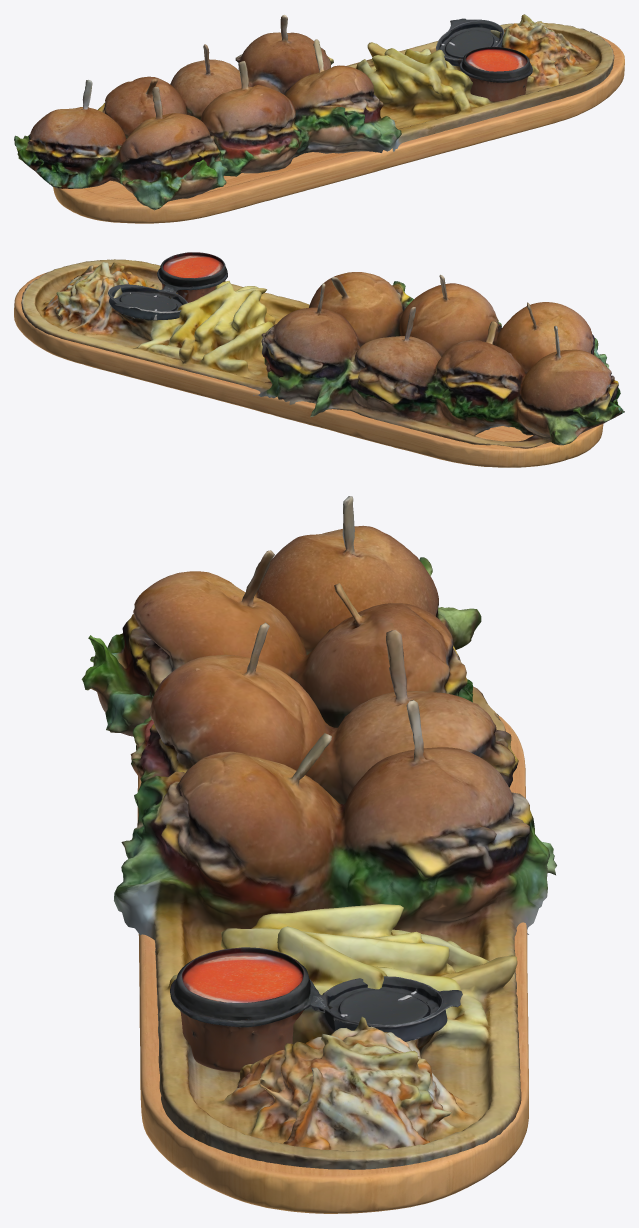
Rendered from burger.gharch7.rose.glb.
The picture shows the model from 3 angles, top to bottom: view 1: azimuth 30°, elevation 25°; view 2: azimuth 150°, elevation 25°; view 3: azimuth 270°, elevation 25°; orthographic projection. The views are drawn at different scales.
Parts seen in each view (by area): view 1: 3DModel, Mesh_0, Mesh_0.002; view 2: 3DModel, Mesh_0, Mesh_0.002; view 3: 3DModel, Mesh_0, Mesh_0.002.
Part boxes in pixels (left/top/right/bottom): 3DModel: left=14, top=14, right=614, bottom=210; Mesh_0: left=53, top=35, right=624, bottom=223; Mesh_0.002: left=436, top=18, right=532, bottom=101; 3DModel: left=21, top=259, right=624, bottom=448; Mesh_0: left=14, top=272, right=603, bottom=467; Mesh_0.002: left=108, top=252, right=227, bottom=320; 3DModel: left=81, top=496, right=556, bottom=1169; Mesh_0: left=137, top=715, right=528, bottom=1213; Mesh_0.002: left=170, top=947, right=462, bottom=1072.
Bounding box in the file's own units: 0.4969 × 0.0968 × 0.1745.
3 materials, 3 textured.
